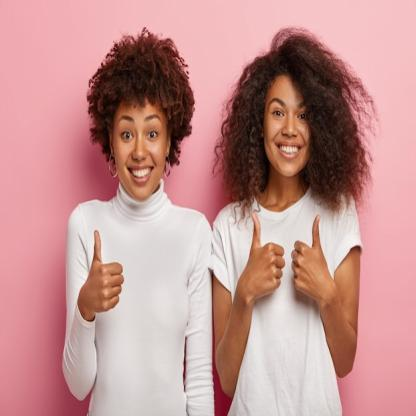thumb_up: (237, 208, 285, 301), (80, 227, 126, 316), (290, 208, 328, 302)
